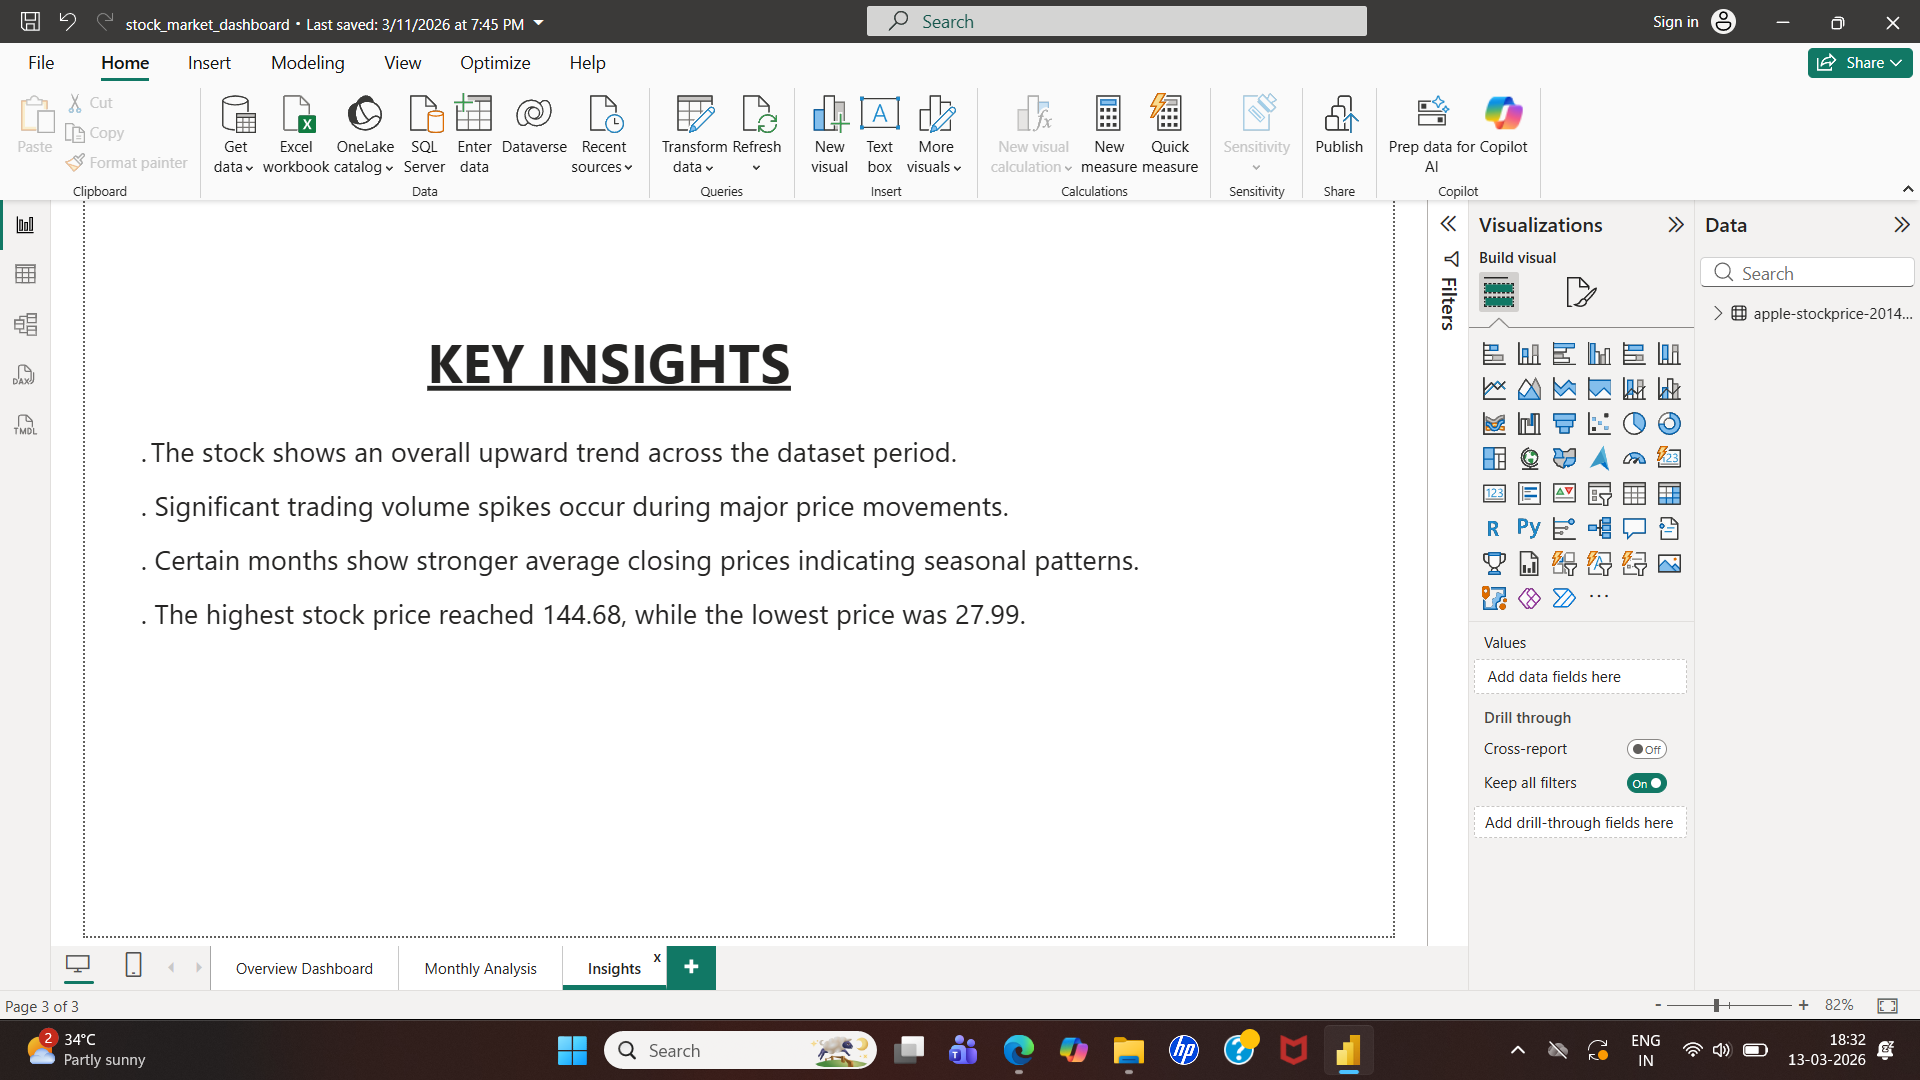

The dashboard page shown, as its layout file describes it:
{"tool":"powerbi","page":{"name":"Insights","canvas":[1280,720],"ordinal":2},"visuals":[{"type":"textbox","box":[9.6,116.6,1229.5,344.4],"z":0}]}

Visuals, with their boxes on the page's 1280x720 design canvas (x1, y1, x2, y2). These are canvas units, not pixel positions in the 1920x1080 screenshot, which may show the page scaled, cropped or inside an application window:
textbox: locate(10, 117, 1239, 461)
